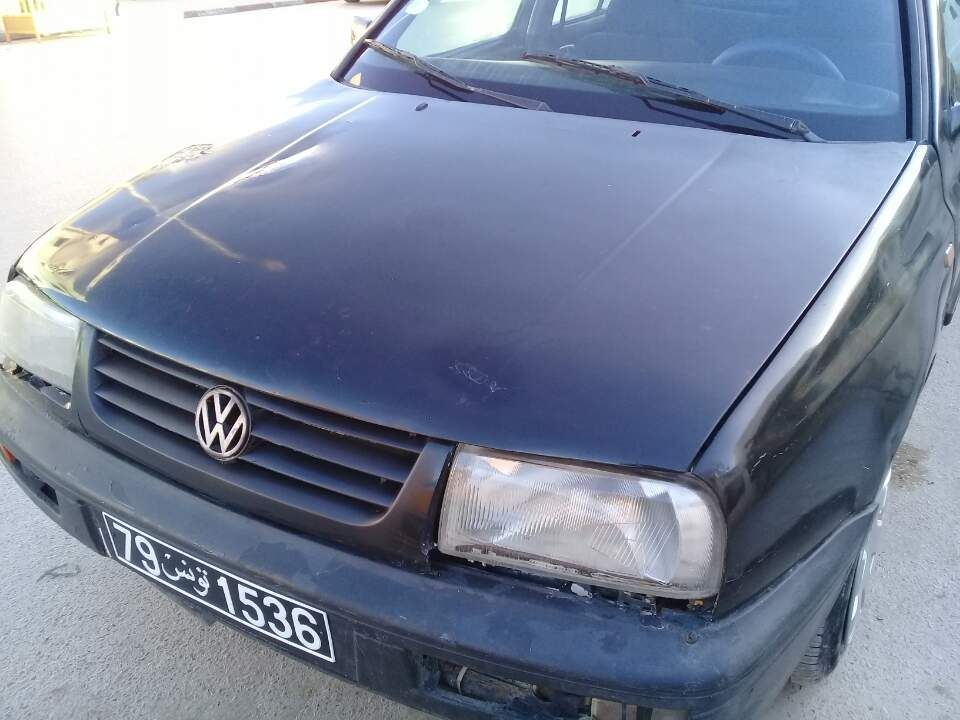LP: (98, 508, 340, 666)
